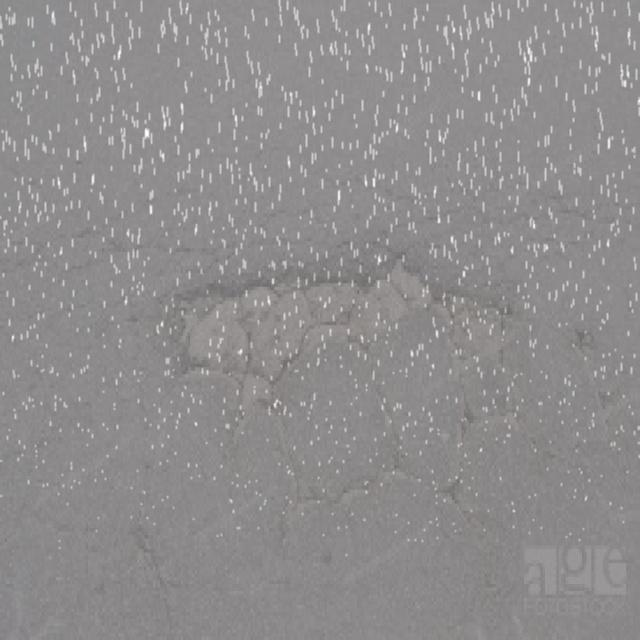Pothole: (156, 245, 450, 381)
